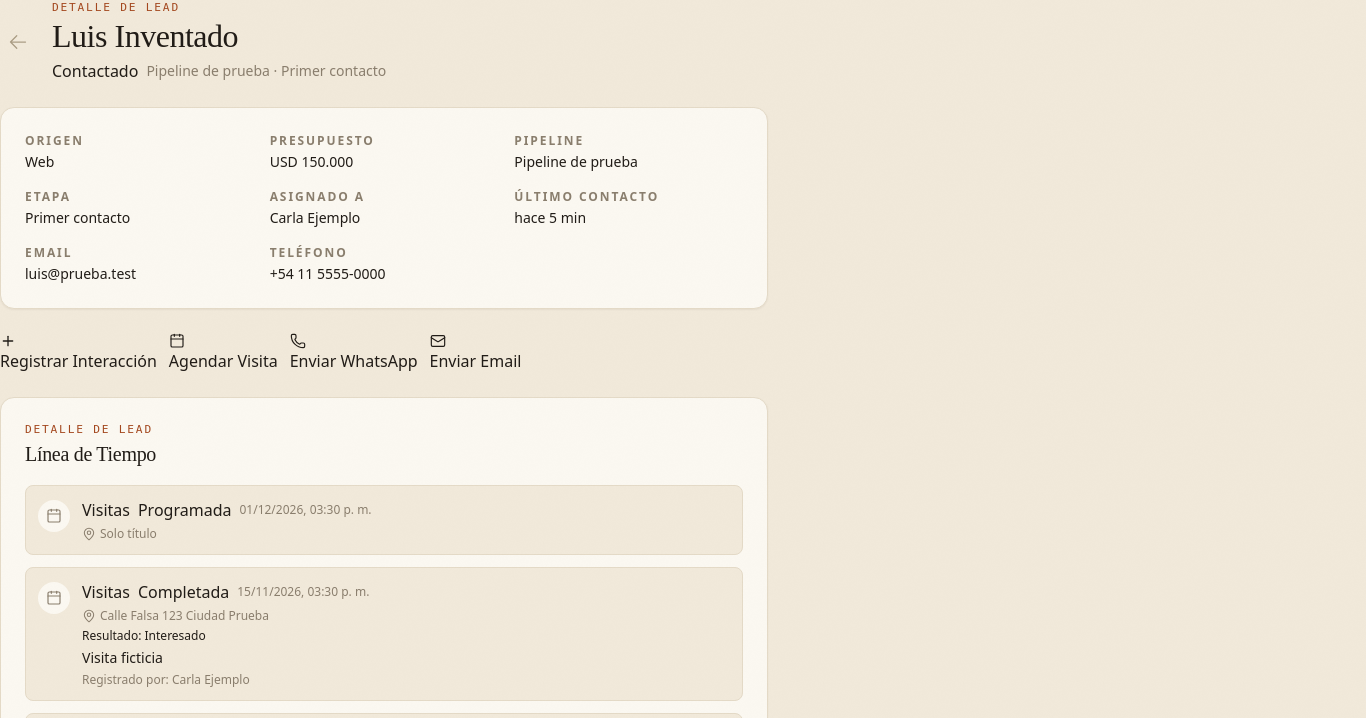
Test: LeadDetailPage › envía un email con plantilla y vista previa
Expected: the heading "Luis Inventado" is shown, [52,18,238,54]
Click the button "Enviar Email": (476, 353) [430,333,522,373]
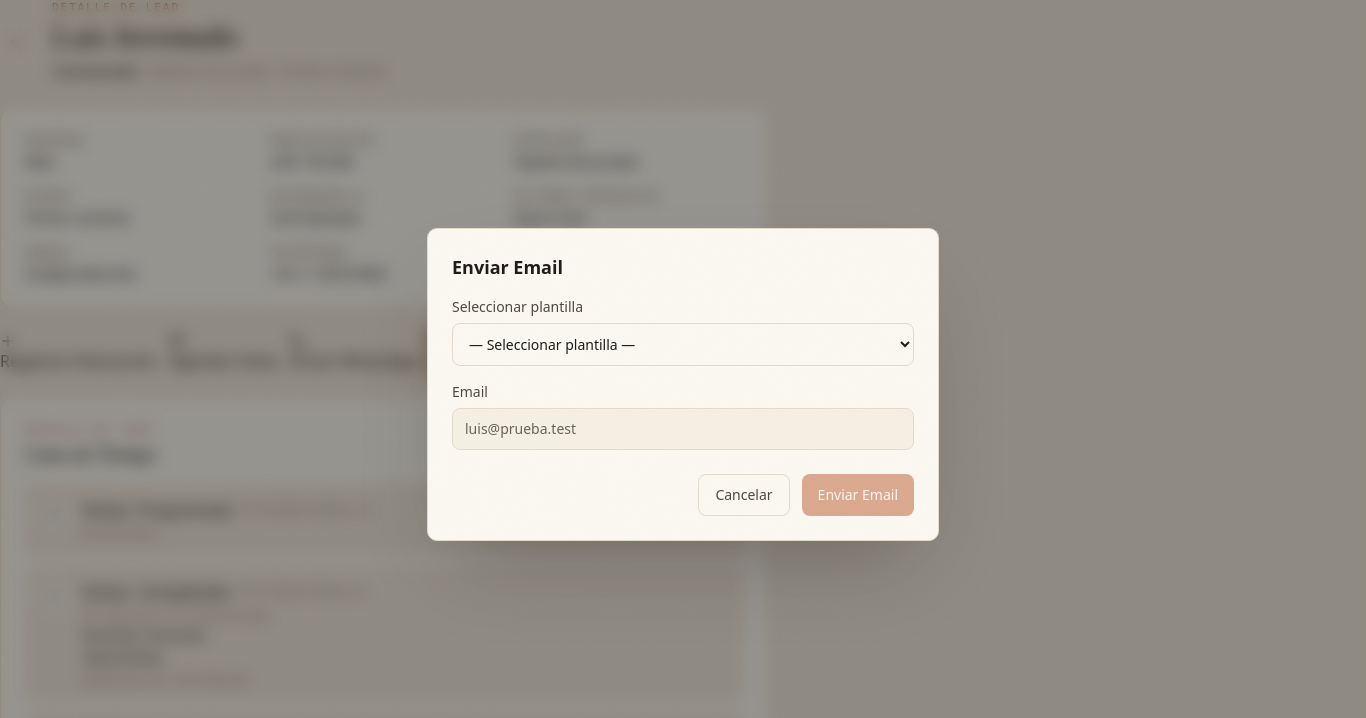
Expected: the button "Enviar Email" is disabled, [802,474,914,516]
Select "Bienvenida prueba" in the dropdown: (683, 344) [452,322,914,366]
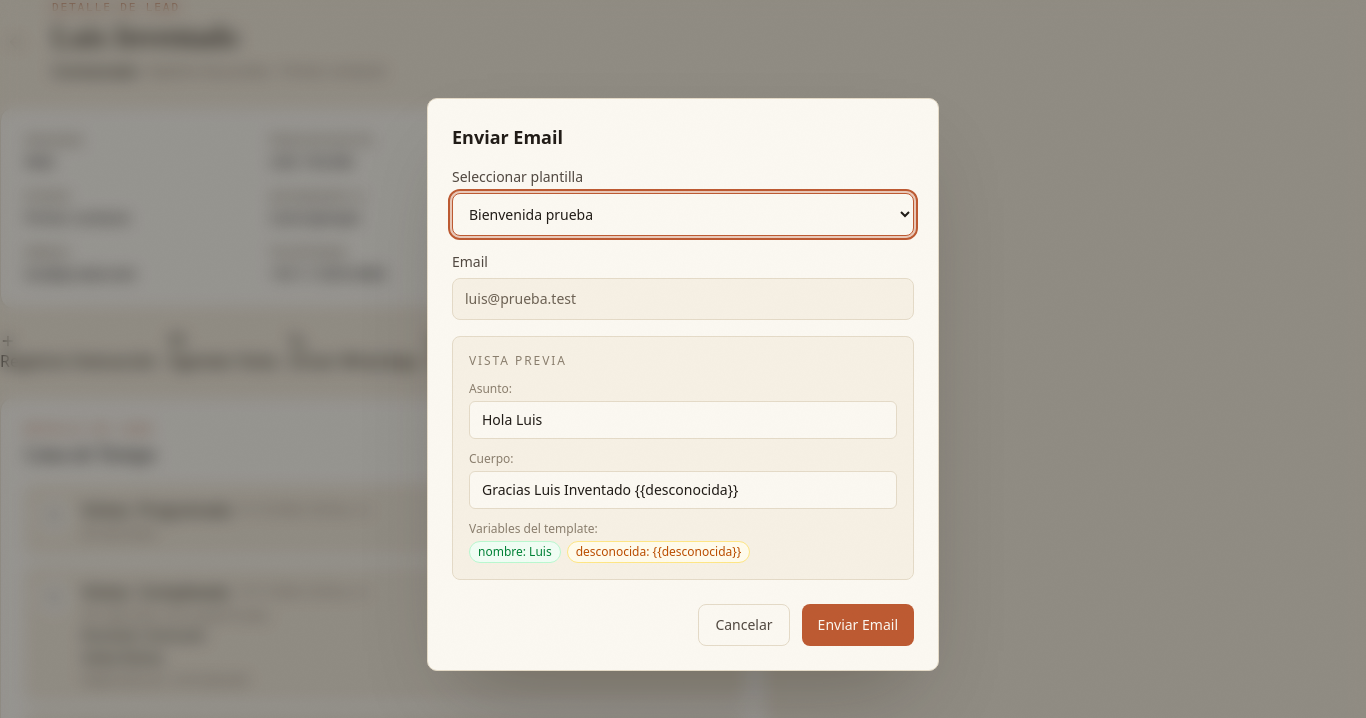
Expected: the text "Hola Luis" is shown, [469,400,897,438]
Expected: the text "Gracias Luis Inventado {{desconocida}}" is shown, [482,480,738,498]
Expected: the text "nombre: Luis" is shown, [469,540,561,562]
Click the button "Enviar Email": (858, 624) [802,604,914,646]
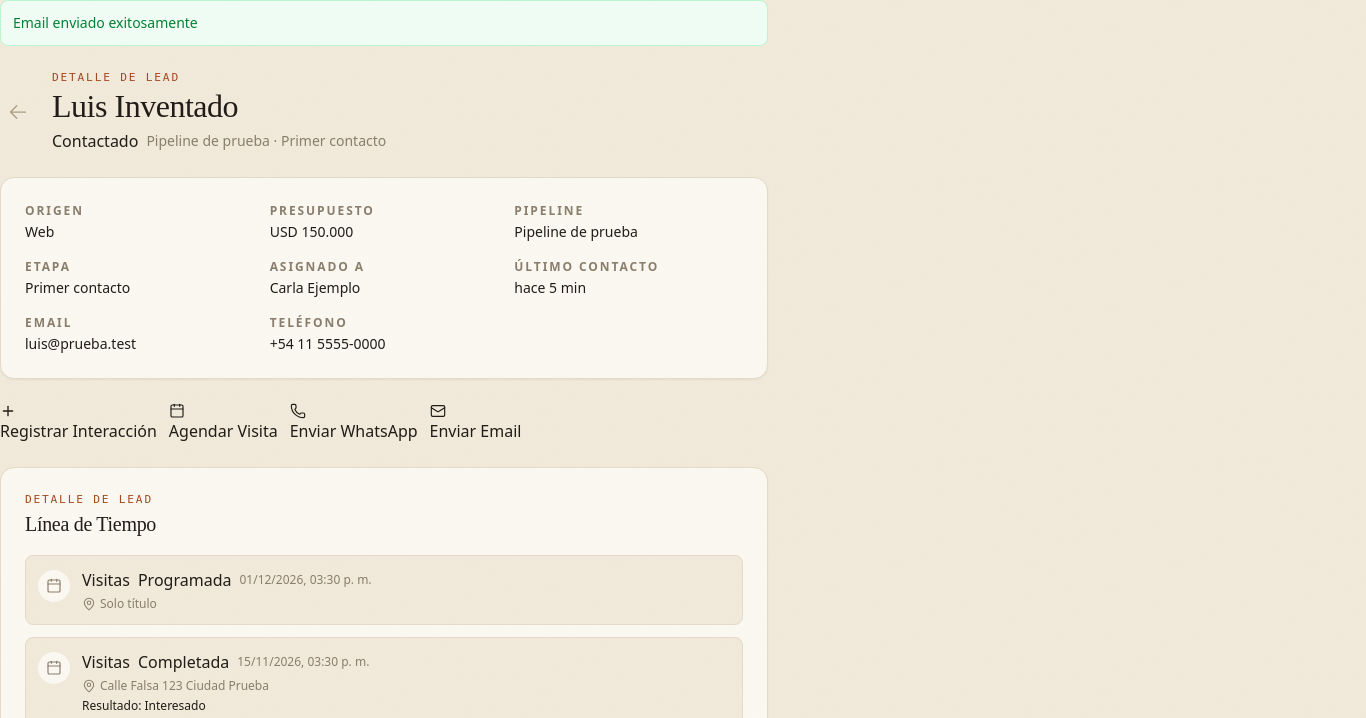
Expected: the text "Email enviado exitosamente" is shown, [0,0,768,46]
